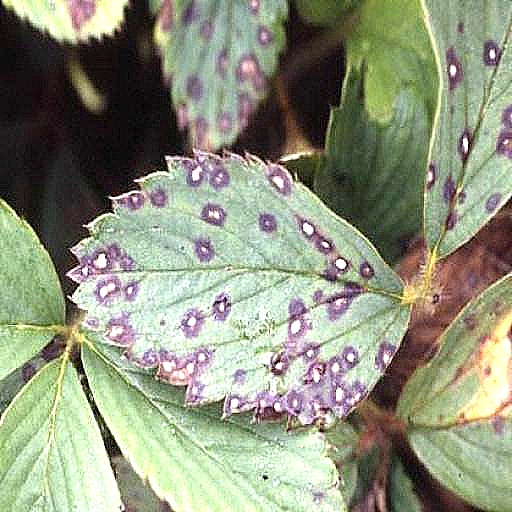Leaf Spot: (100, 147, 448, 435), (163, 335, 433, 511), (0, 271, 119, 511), (222, 0, 367, 154), (381, 0, 511, 45)
